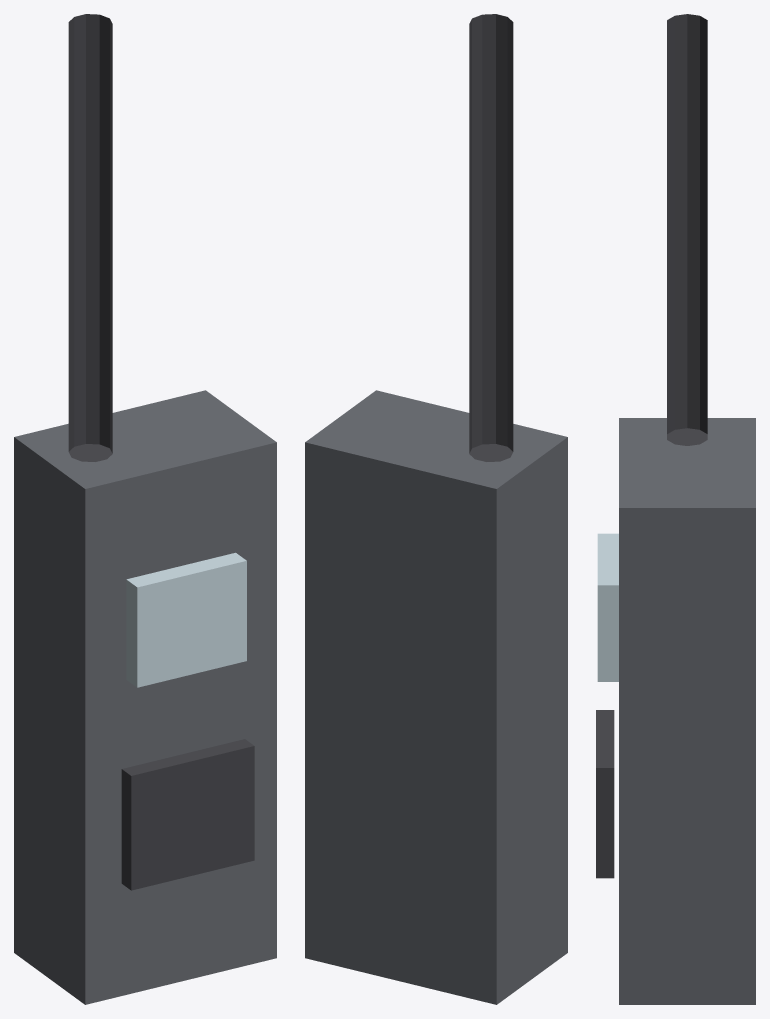
The model's file is bank-vault-heist-kit-walkie-talkie-89ec8faf__25125.glb.
3 renders of one model, left to right at view 1: azimuth 30°, elevation 25°; view 2: azimuth 150°, elevation 25°; view 3: azimuth 270°, elevation 25°, orthographic. The views are drawn at different scales.
Visible parts, largest first — view 1: walkie-talkie; view 2: walkie-talkie; view 3: walkie-talkie.
Part boxes in pixels (box(x1,y1,x2,y2)): walkie-talkie: box(14, 14, 276, 1004); walkie-talkie: box(305, 14, 567, 1004); walkie-talkie: box(596, 14, 755, 1004).
Bounding box in the file's own units: 0.07 × 0.33 × 0.0525.
